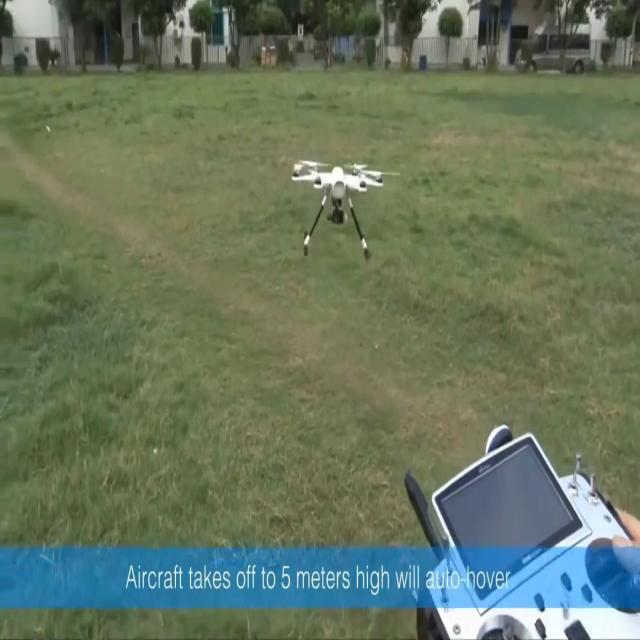drone: (291, 158, 400, 262)
